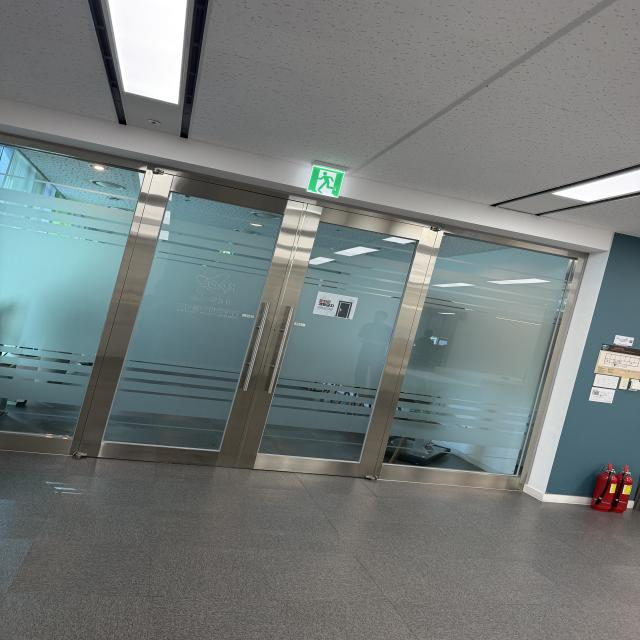front_door: (0, 130, 590, 492)
